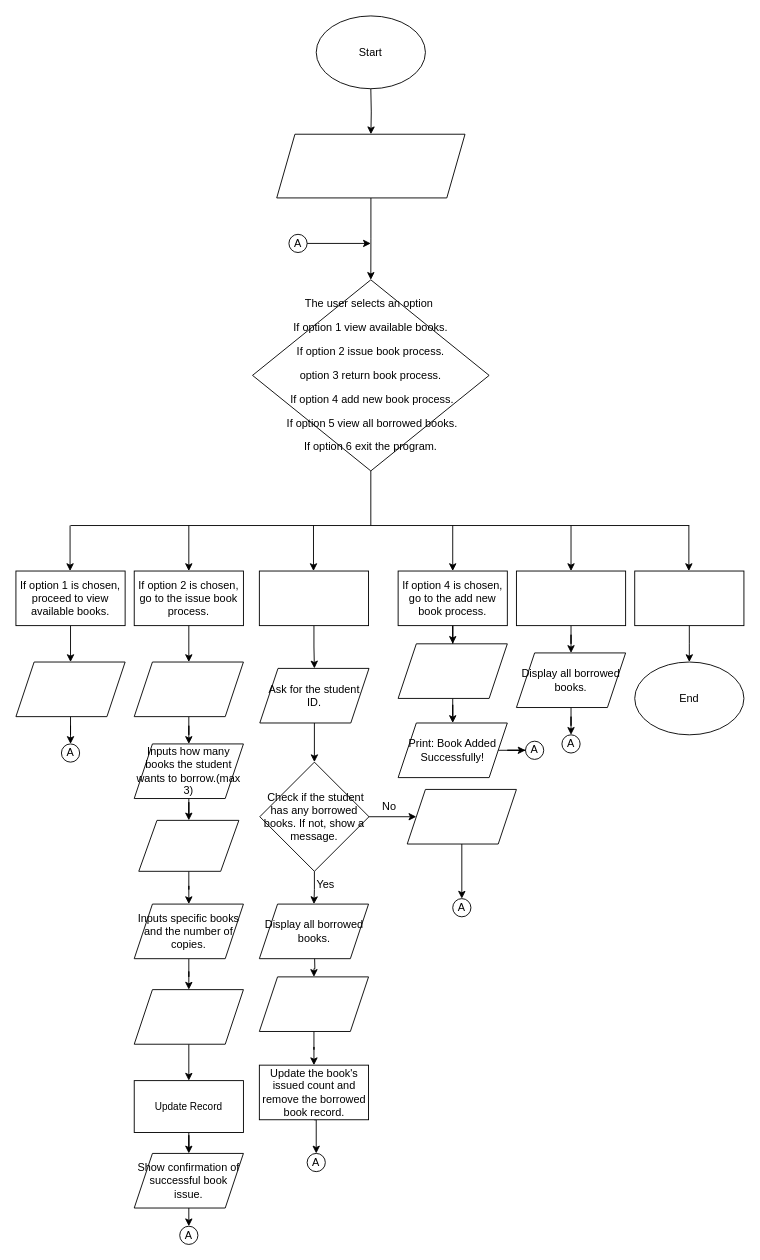
Some shapes in this 760 by 1260 pixel diagram are drawn without their labels. The shapes that lost their labels are listed below. From the top down, each one's box as (x1, y1, x2, y2) in pixels, then its label:
(276, 133, 465, 198): Display the library menu.
(258, 570, 369, 626): If option 3 is chosen, go to the return book process.
(516, 570, 626, 626): If option 5 is chosen, go to view all borrowed books.
(634, 570, 744, 626): If option 6 is chosen, exit the program.
(15, 661, 125, 717): Display List of Available Books
(133, 661, 243, 717): Inputs student's name and ID.
(397, 643, 507, 698): Input book details (title, author, category, copies).
(406, 789, 516, 844): Display No books found under your student ID
(138, 819, 239, 871): Show list of Available Books
(133, 989, 243, 1044): Inputs the student of how many days to borrow (max 5 days)
(258, 976, 369, 1031): Input the number of copies to return.
